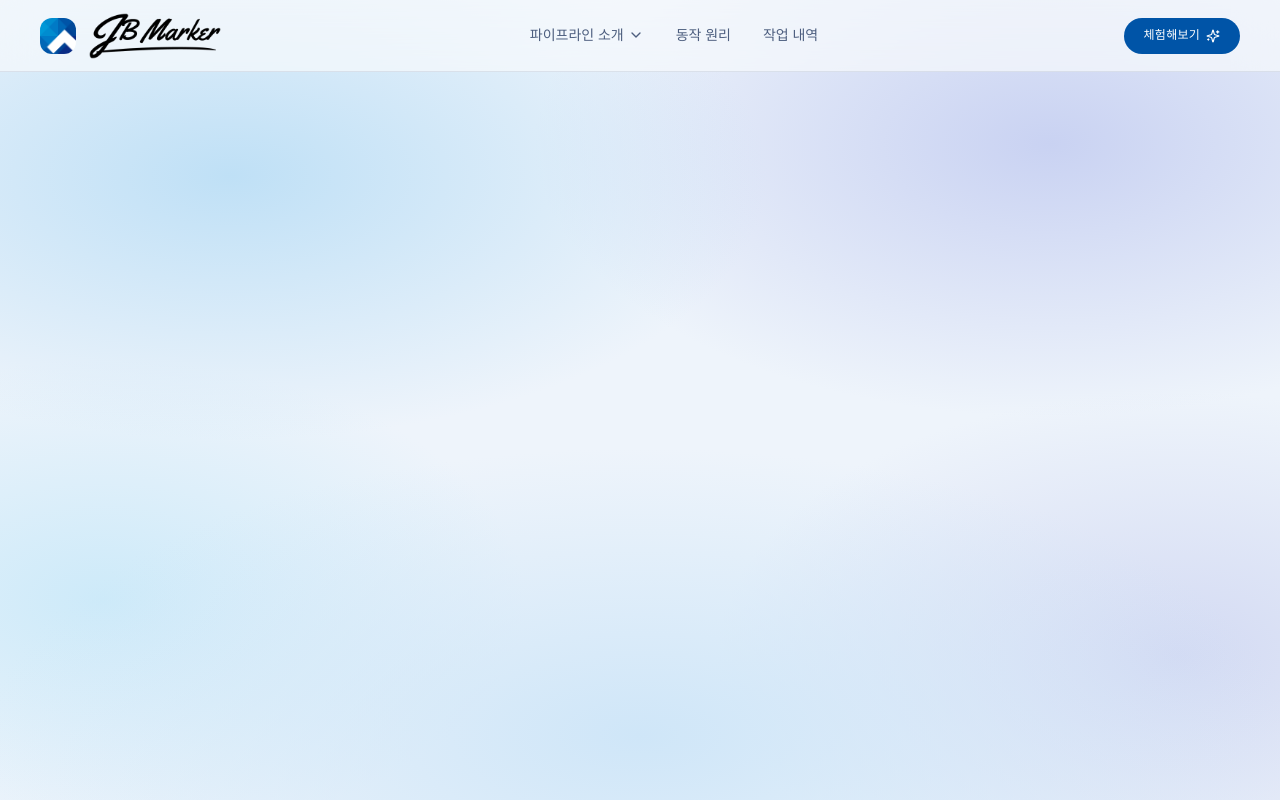
Test: LandingNav 와이어링 › 파이프라인 소개 드롭다운 서브항목이 각 단계 앵커로 연결된다(hover)
Note: 드롭다운은 hover 시에만 마운트된다 → 부모 래퍼에 mouseEnter.
Hover over the text "파이프라인 소개" at coordinates (587, 35), box [530,26,644,44]
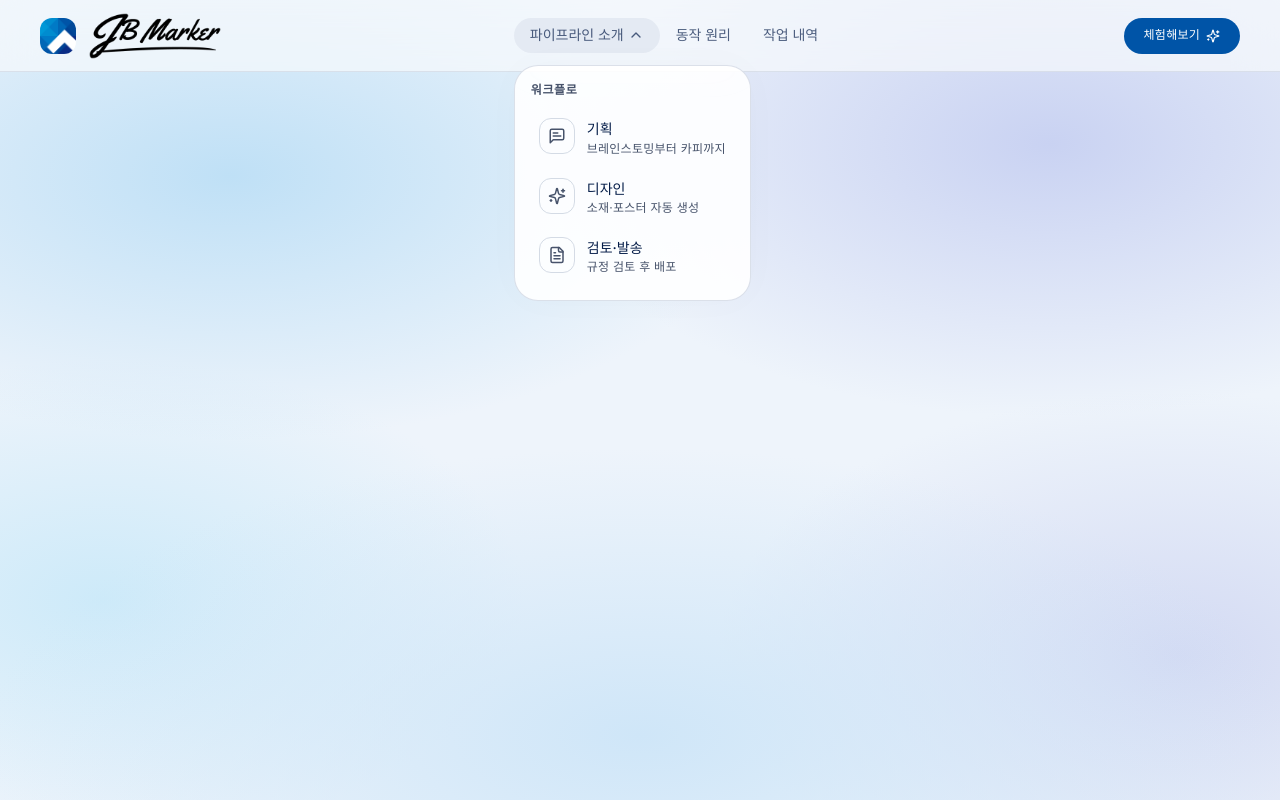
expect the link with id "step-planning" is shown: met, box [531,110,734,166]
expect the link with id "step-design" is shown: met, box [539,178,699,215]
expect the link with id "step-review" is shown: met, box [539,237,677,274]
